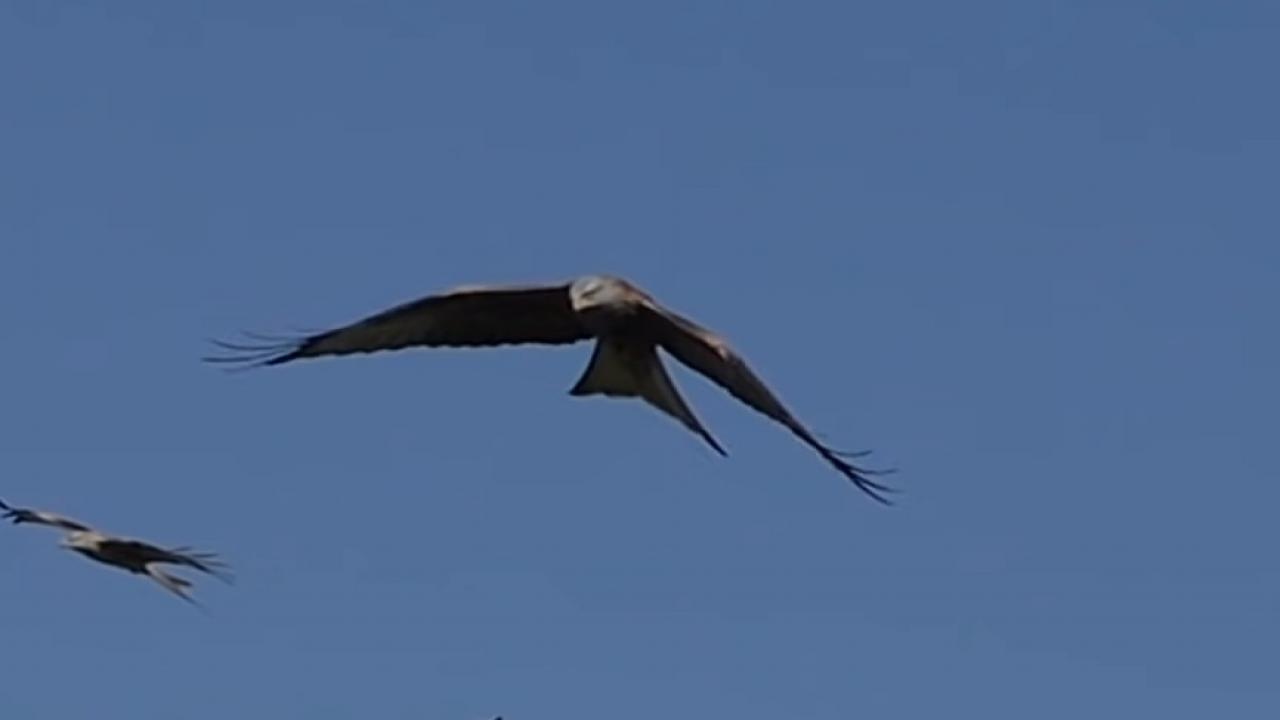Bird: (190, 265, 916, 523), (0, 486, 252, 618)
